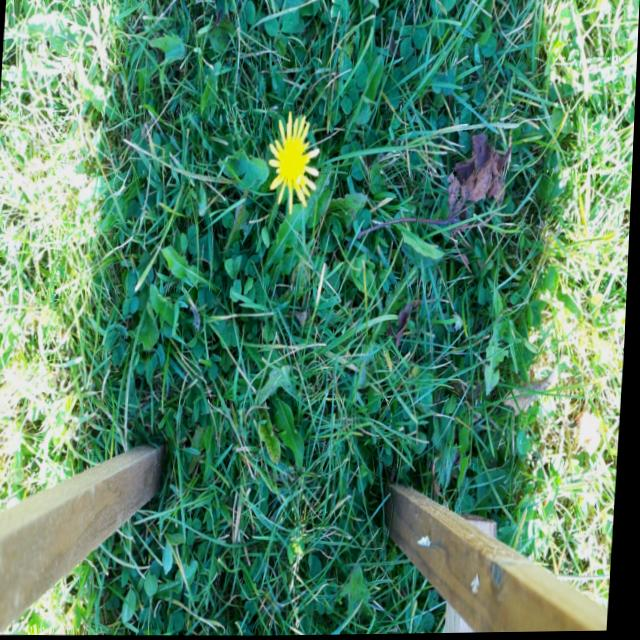flower: (268, 115, 320, 208)
